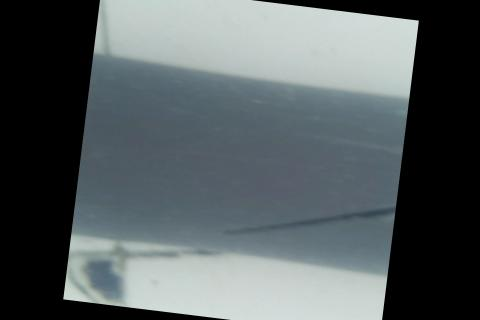keretakan: (216, 178, 396, 257)
